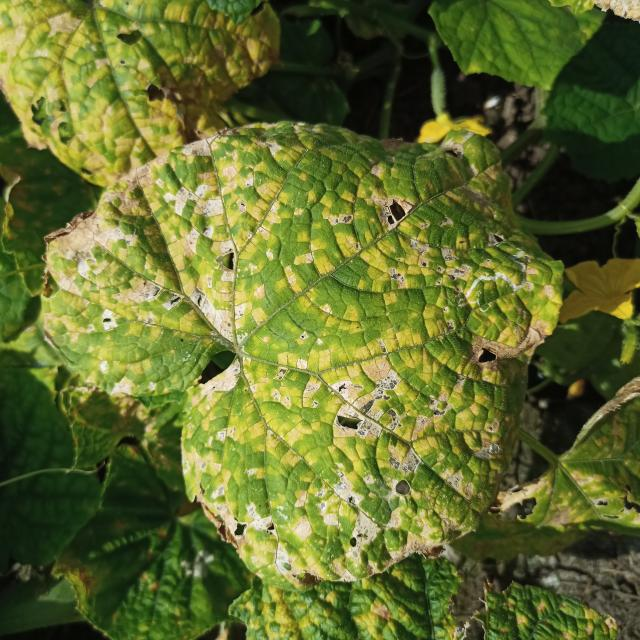disease_cucumber: (49, 131, 562, 561), (0, 0, 287, 180)
